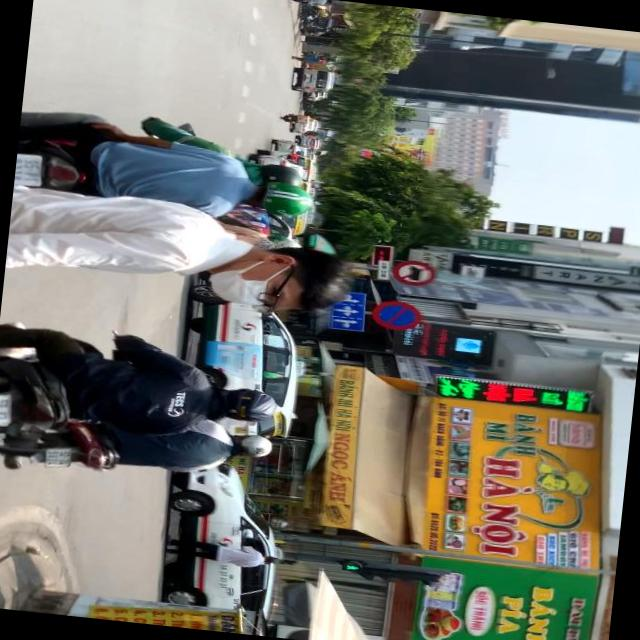P-131a: (372, 300, 425, 332)
